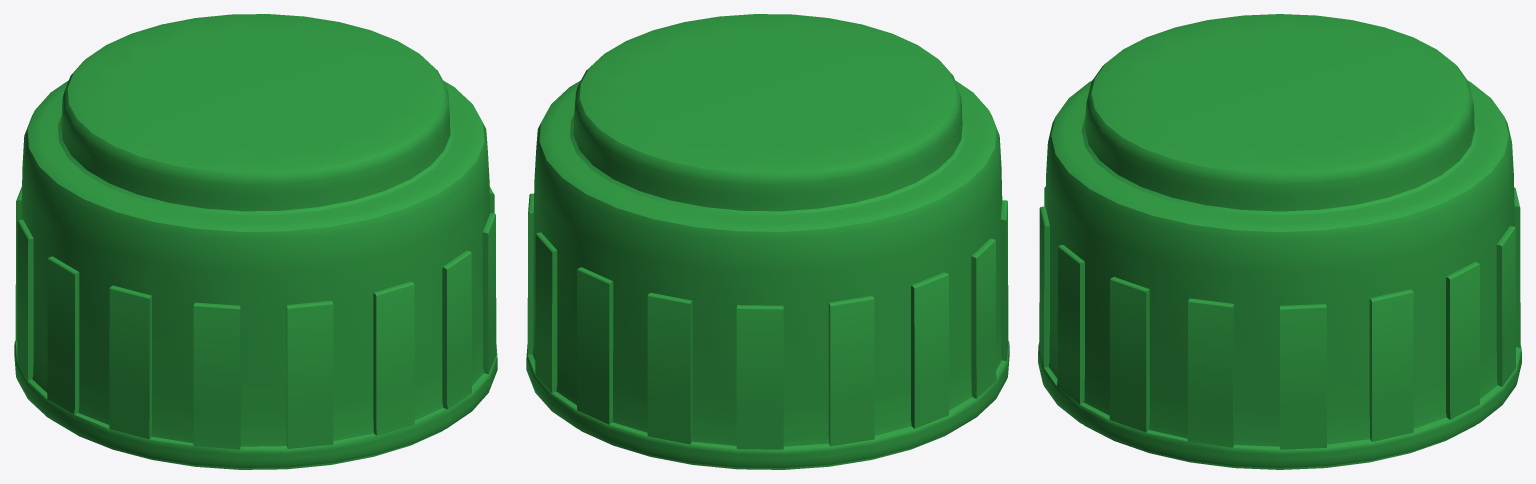
The model's file is anhydrous magnesium sulfate bottle cap.gltf.
3 views of the same model, side by side, from view 1: azimuth 30°, elevation 25°; view 2: azimuth 150°, elevation 25°; view 3: azimuth 270°, elevation 25° (orthographic).
Parts seen in each view (by area): view 1: Cylinder.002; view 2: Cylinder.002; view 3: Cylinder.002.
Part boxes in pixels (x1,y1,x2,y2): Cylinder.002: (14,14,497,469); Cylinder.002: (526,14,1009,469); Cylinder.002: (1038,14,1521,469).
Size of the model in its own units: 0.4155 by 0.2658 by 0.4155.
